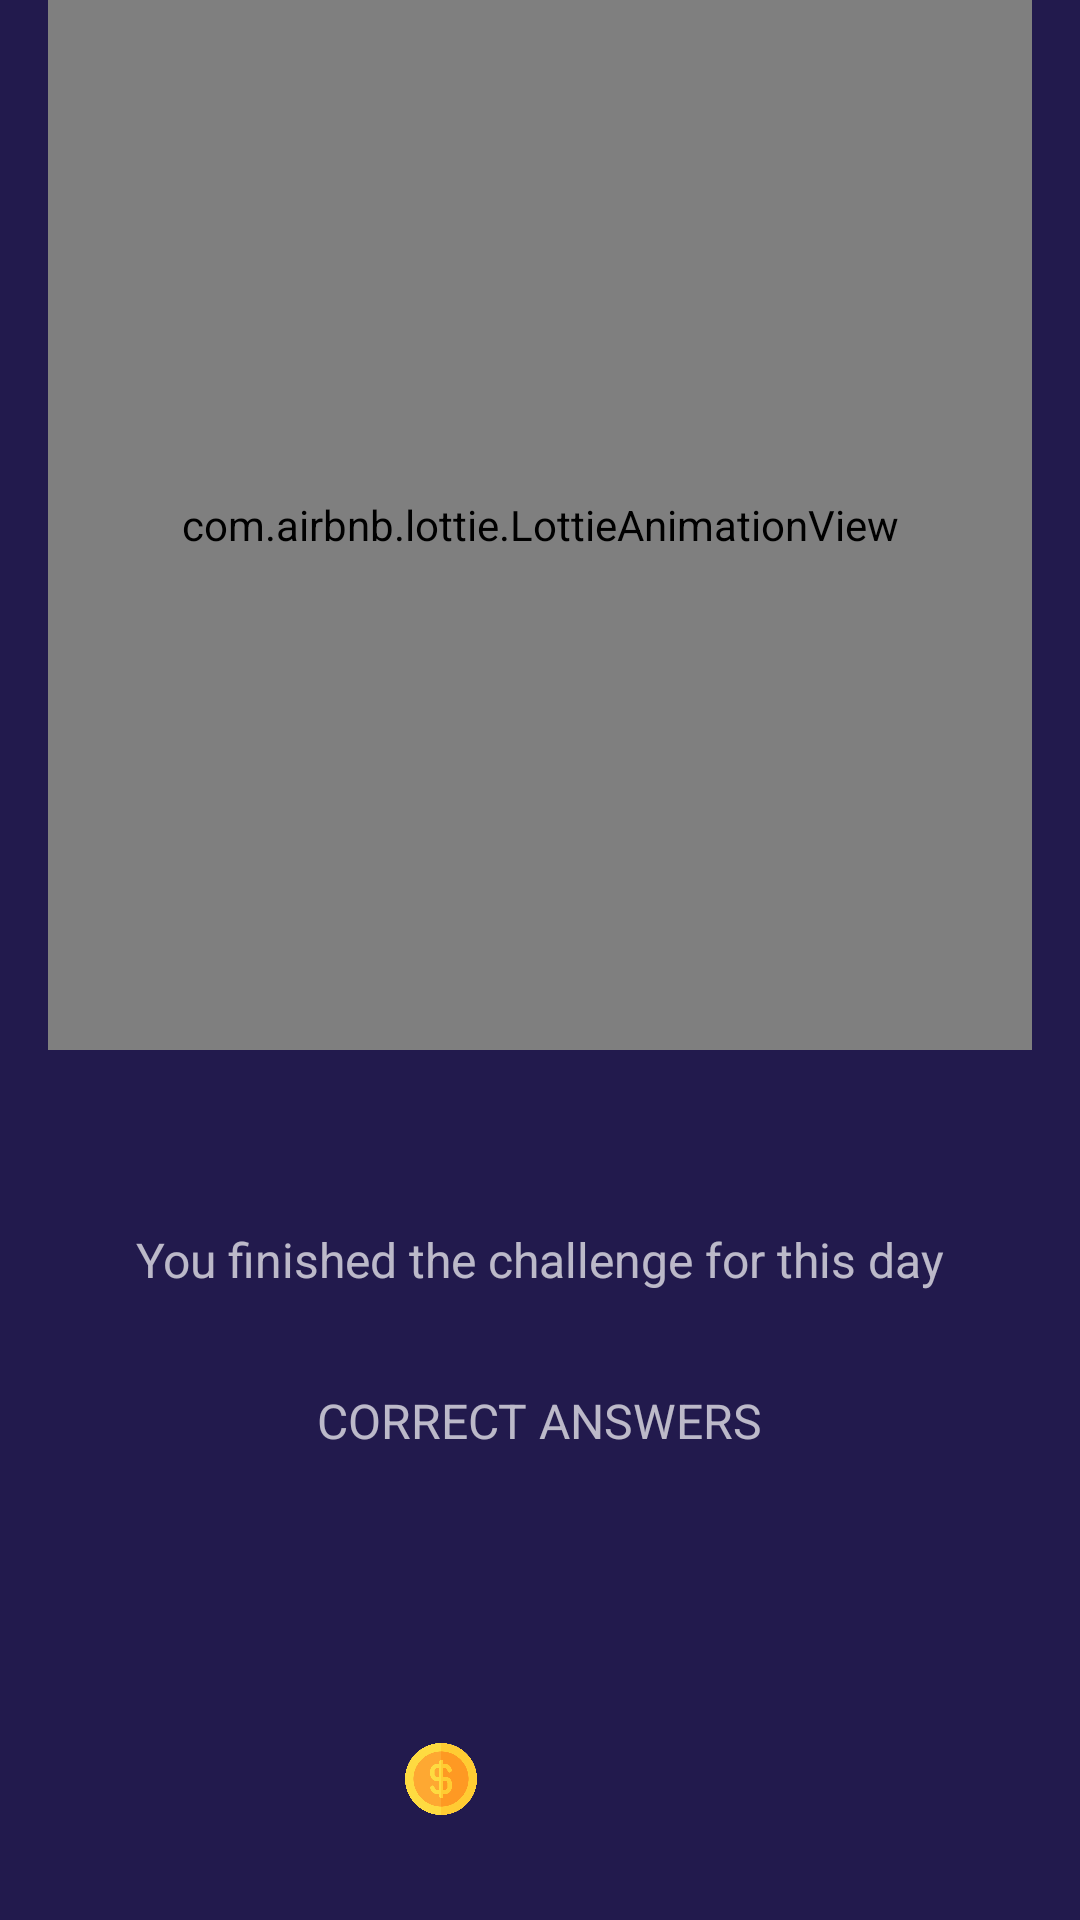

Icon click points for this 1080x1920 phone screenshot, format (x,y):
dollar coin: (441,1779)
